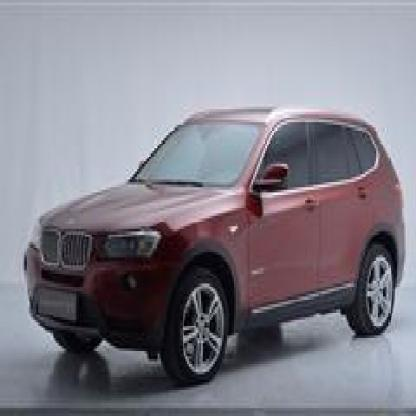Car: (16, 96, 409, 377)
